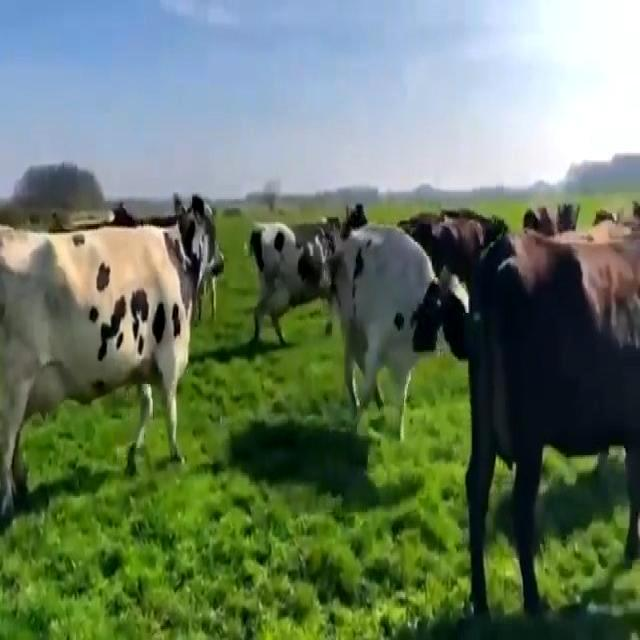COW: (250, 204, 640, 613), (0, 196, 222, 517)
